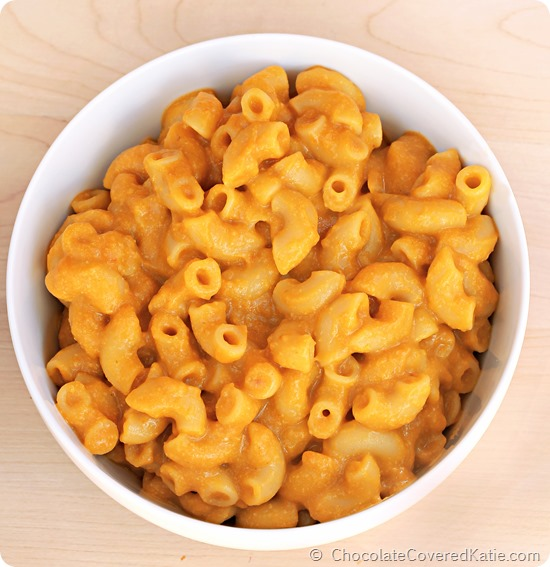macncheese: (39, 60, 502, 529)
